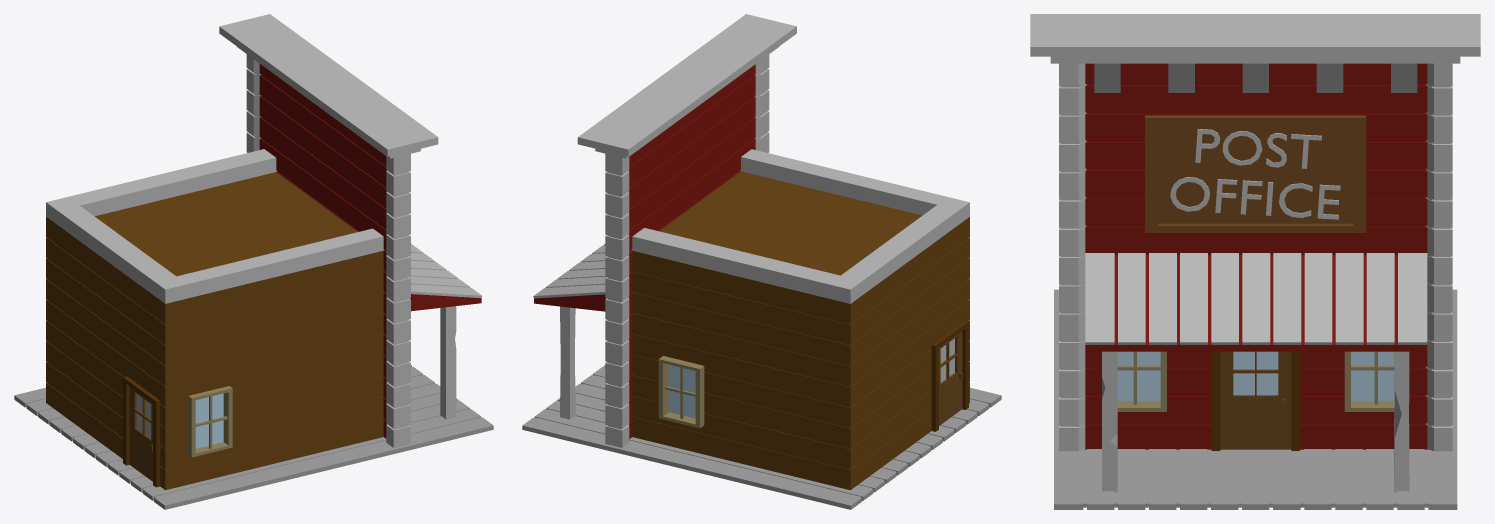
The model's file is Post_Office.fbx.
The picture shows the model from 3 angles, left to right: view 1: azimuth 30°, elevation 25°; view 2: azimuth 150°, elevation 25°; view 3: azimuth 270°, elevation 25°; orthographic projection. The views are drawn at different scales.
Parts seen in each view (by area): view 1: Post_Office_Merged; view 2: Post_Office_Merged; view 3: Post_Office_Merged.
Boxes of the visible parts, bbox=[...] form: Post_Office_Merged: bbox=[14, 14, 493, 509]; Post_Office_Merged: bbox=[522, 14, 1001, 509]; Post_Office_Merged: bbox=[1030, 14, 1480, 509].
Bounding box in the file's own units: 801 × 732 × 710.
